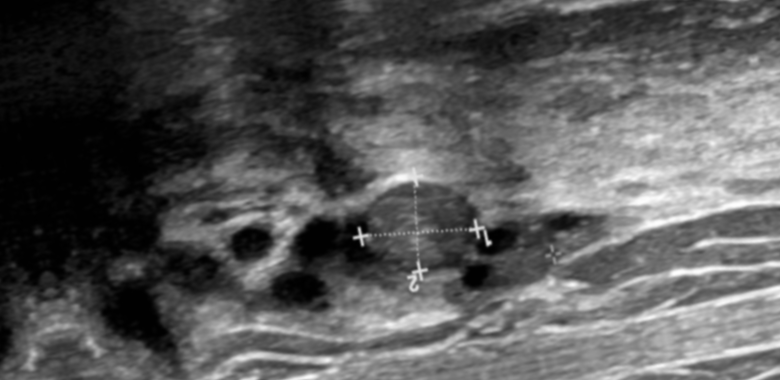Benign: (360, 176, 481, 285)
